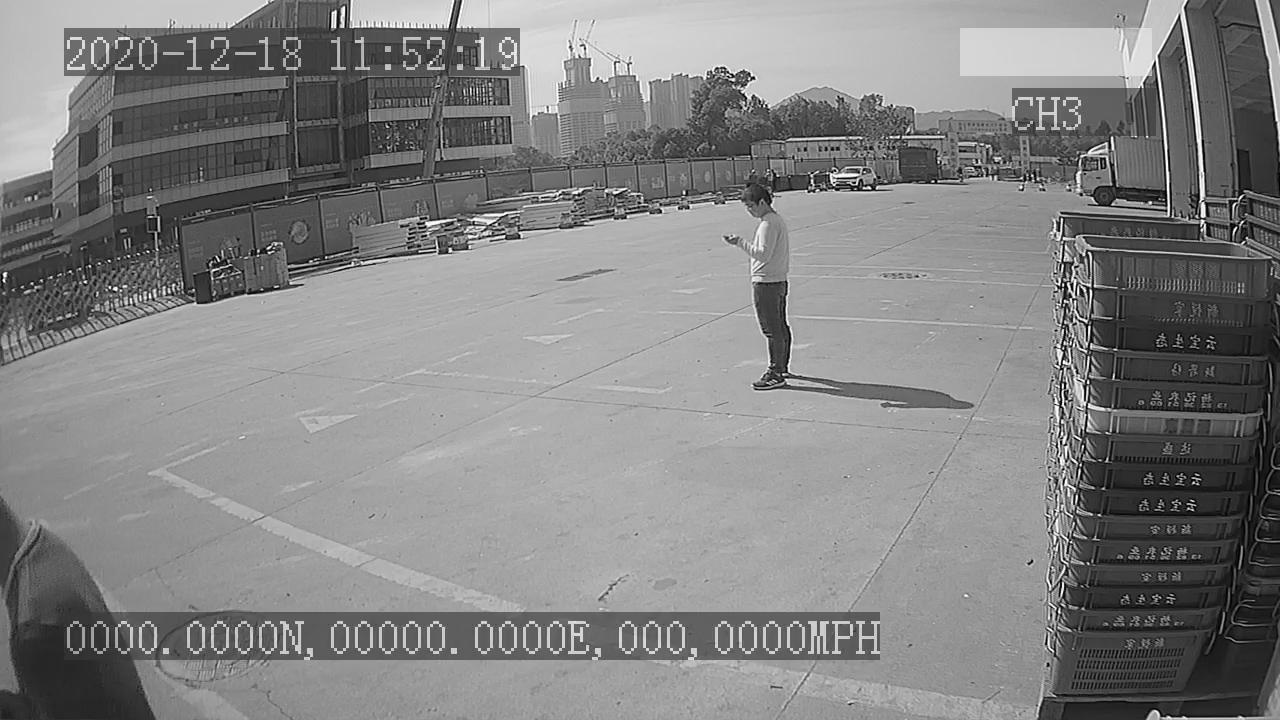person: (717, 181, 799, 395)
